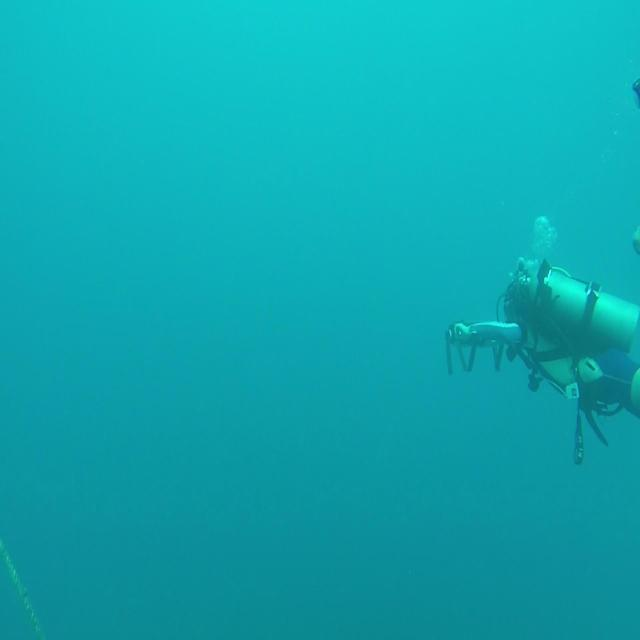human: (502, 255, 639, 399)
